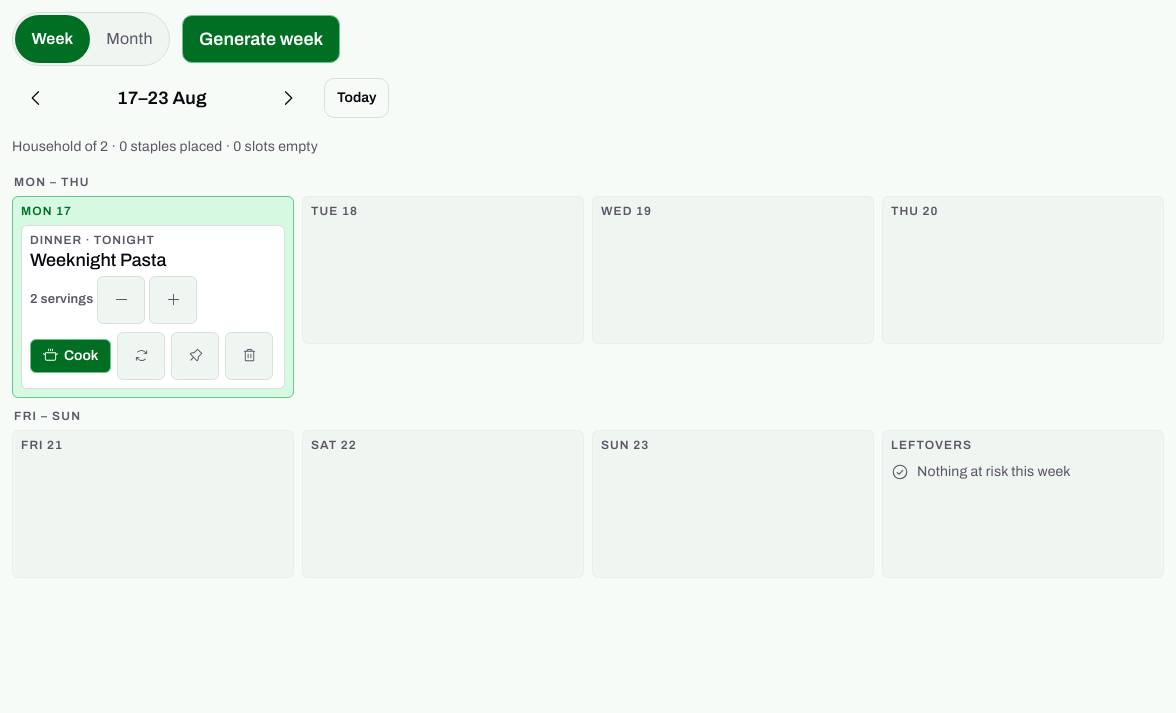
it: Plan — month/quarter view › switches to /plan/month via the Week/Month toggle and shows the month grid plus a 3-month quarter strip
Step 1. Click the radio button labelled "Month" → (129,38), box [106,30,153,47]
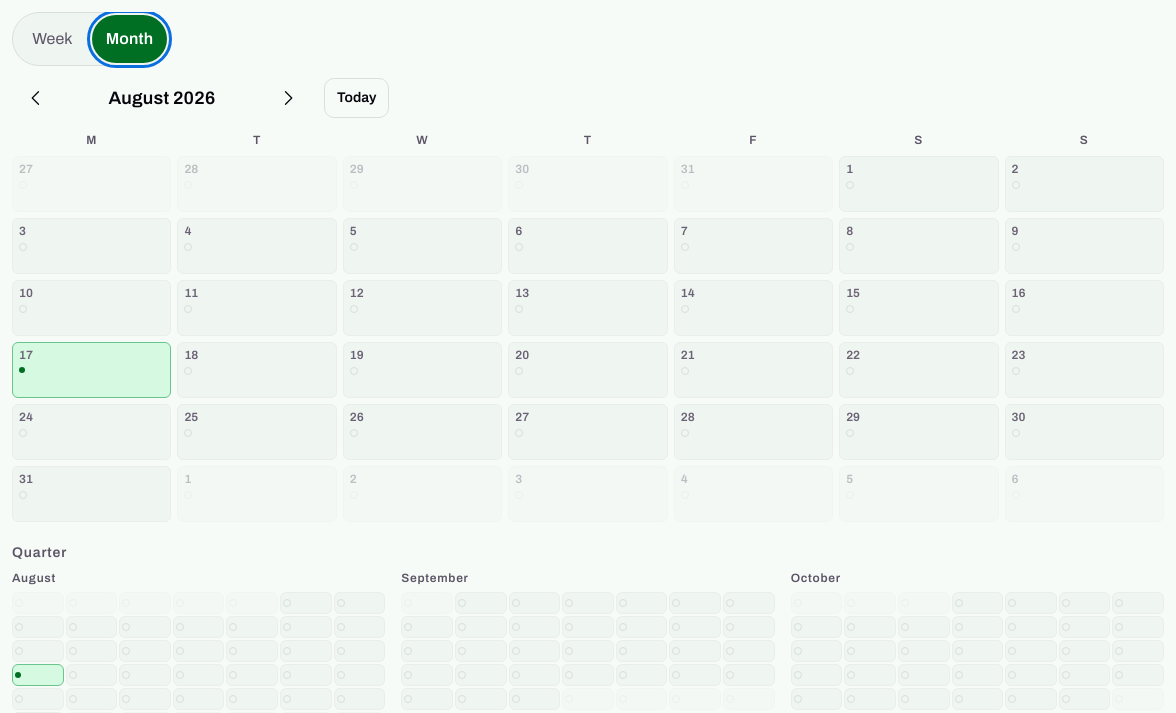
Expected: the text "August 2026" is shown, [109,88,216,108]
Expected: the text "August" is shown, [12,571,56,585]
Expected: the text "September" is shown, [401,571,469,585]
Step 2. Click the button named "2026-08-17 (today)" → (92,370), box [12,342,171,398]
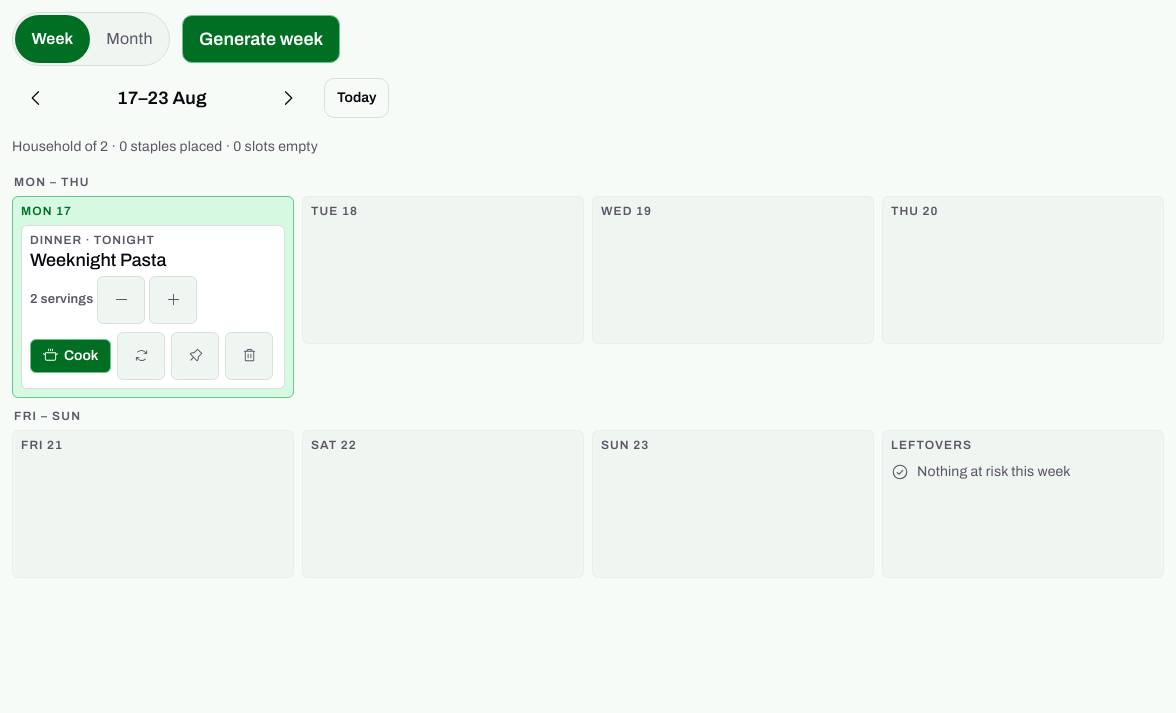
Expected: the radio button labelled "Week" is checked, [15,15,90,63]
